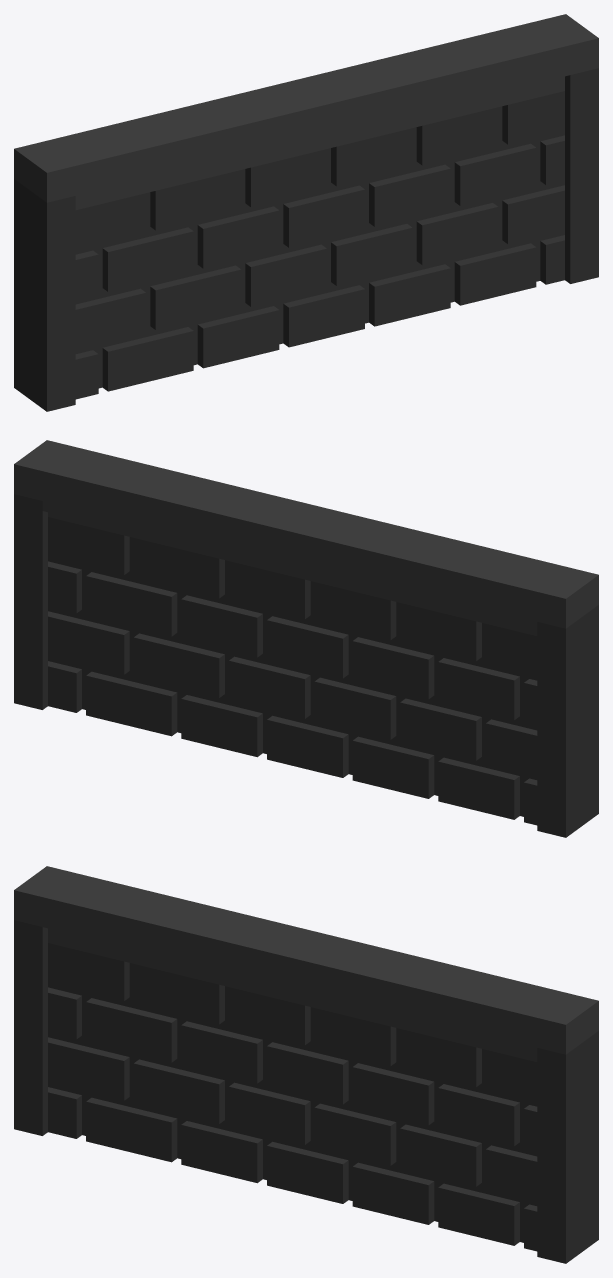
File: Wall.obj
3 views of the same model, one above another, from view 1: azimuth 30°, elevation 25°; view 2: azimuth 150°, elevation 25°; view 3: azimuth 330°, elevation 25° (orthographic).
Bounding box in the file's own units: 5.8 × 2.4 × 0.6.
Materials: 1 (1 with a texture image).
